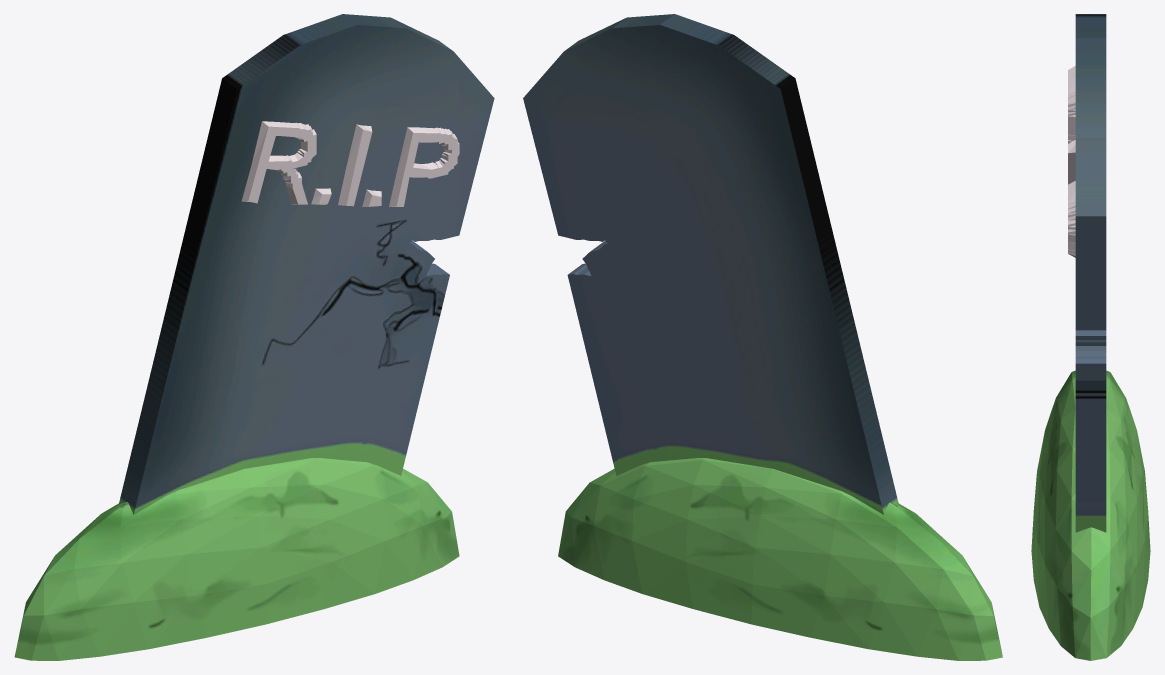
File: Grave2.glb
3 renders of one model, left to right at view 1: azimuth 30°, elevation 25°; view 2: azimuth 150°, elevation 25°; view 3: azimuth 270°, elevation 25°, orthographic. The views are drawn at different scales.
Visible parts, largest first — view 1: Grave2; view 2: Grave2; view 3: Grave2.
Part boxes in pixels (bbox=[...]): Grave2: bbox=[14, 14, 494, 660]; Grave2: bbox=[523, 14, 1002, 660]; Grave2: bbox=[1031, 14, 1150, 660].
Bounding box in the file's own units: 54.78 × 61.6 × 11.69.
1 material, 1 textured.
